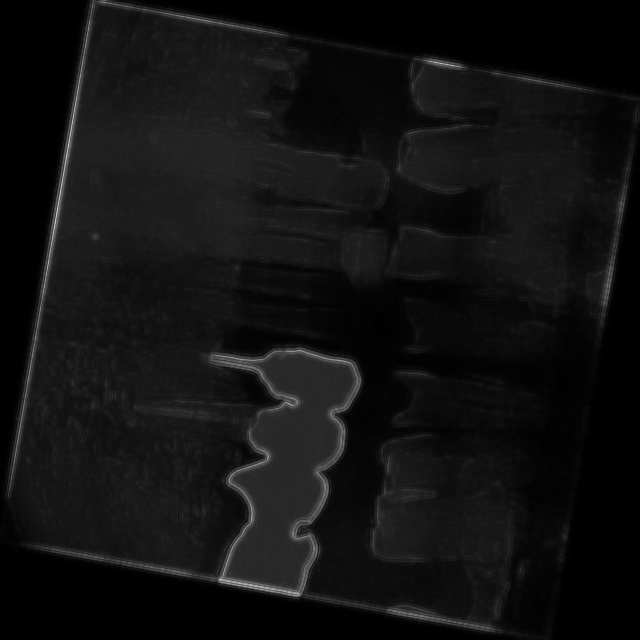Class 0- No endodontic treatment: (102, 361, 360, 491)
Class 2- incomplete endodontic treatment: (118, 289, 386, 424), (210, 32, 334, 150)
